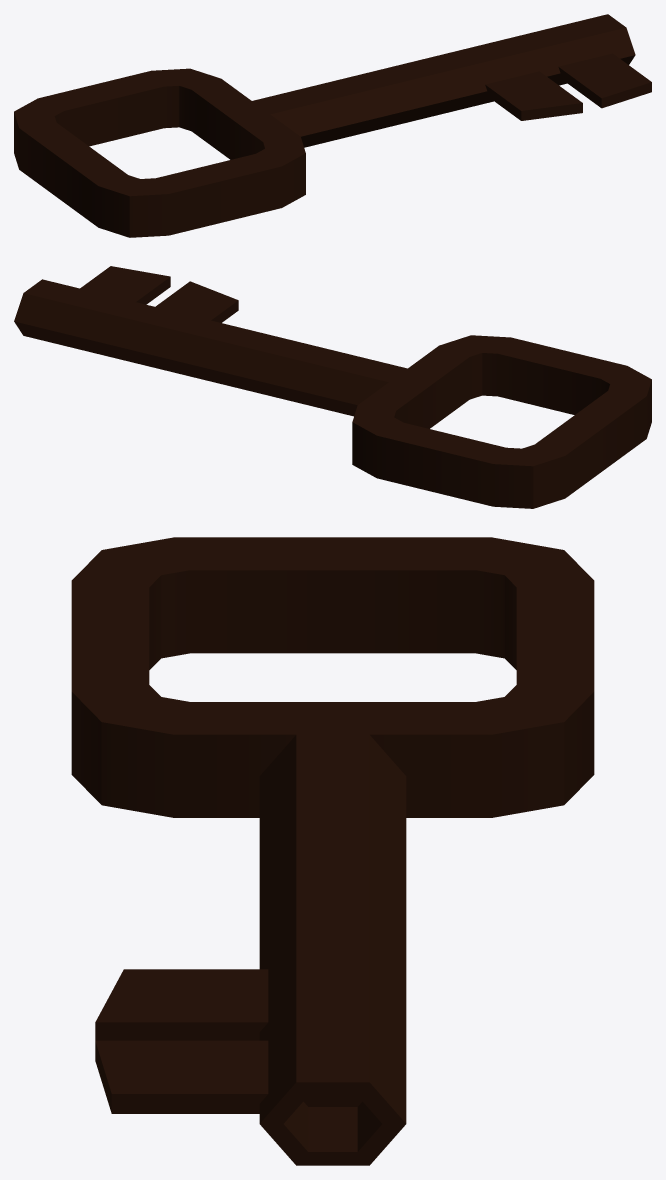
The model's file is Key.FBX.
3 views of the same model, one above another, from view 1: azimuth 30°, elevation 25°; view 2: azimuth 150°, elevation 25°; view 3: azimuth 270°, elevation 25° (orthographic). The views are drawn at different scales.
Parts seen in each view (by area): view 1: Rectangle004; view 2: Rectangle004; view 3: Rectangle004.
Part boxes in pixels (left/top/right/bottom): Rectangle004: left=14, top=14, right=651, bottom=237; Rectangle004: left=14, top=266, right=651, bottom=508; Rectangle004: left=71, top=537, right=594, bottom=1165.
Size of the model in its own units: 45.65 by 3.25 by 18.5.
